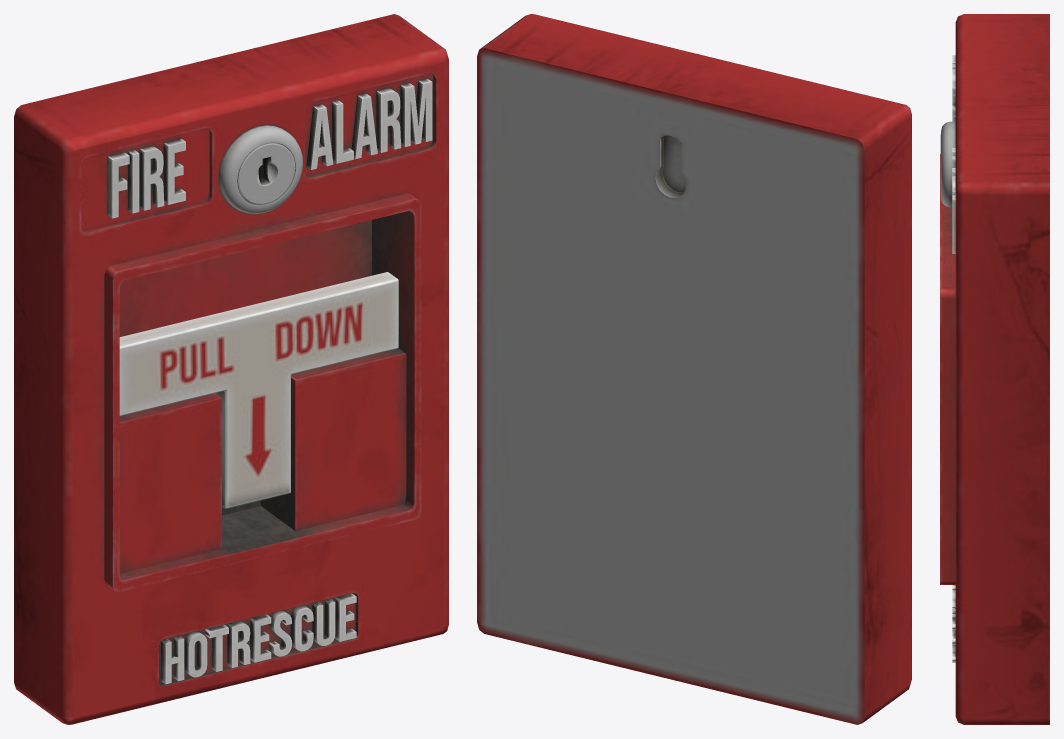
File: fire_alarm_1k.gltf
3 renders of one model, left to right at view 1: azimuth 30°, elevation 25°; view 2: azimuth 150°, elevation 25°; view 3: azimuth 270°, elevation 25°, orthographic. The views are drawn at different scales.
Visible parts, largest first — view 1: fire_alarm, fire_alarm_lever; view 2: fire_alarm; view 3: fire_alarm.
Boxes of the visible parts, <box> form: fire_alarm: <box>14,14,448,724</box>; fire_alarm_lever: <box>119,272,398,508</box>; fire_alarm: <box>477,14,911,724</box>; fire_alarm: <box>940,14,1049,724</box>.
Size of the model in its own units: 0.0994 by 0.1436 by 0.0264.
1 material, 1 textured.
